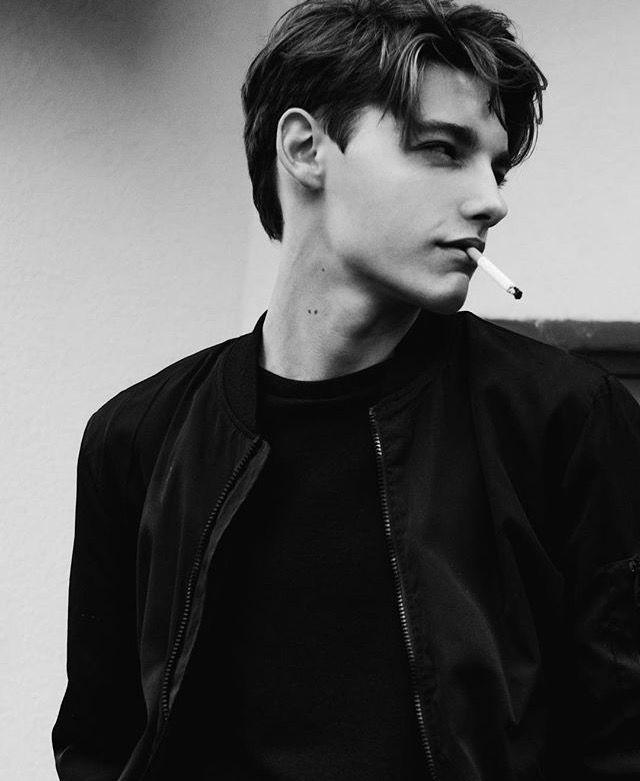cigarette: (463, 246, 523, 301)
